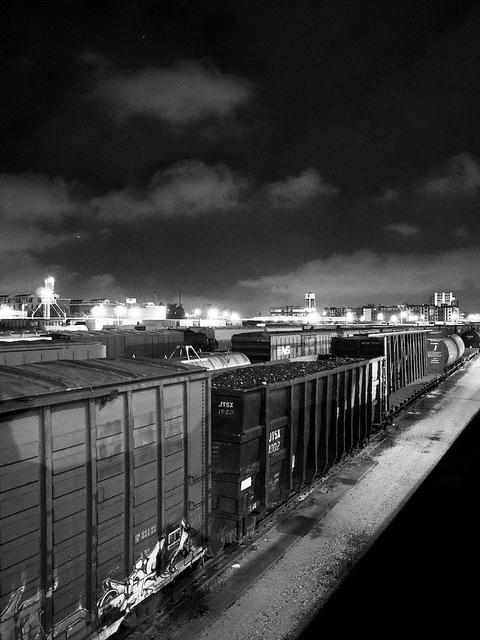Train: (0, 325, 469, 633), (12, 321, 401, 366)
